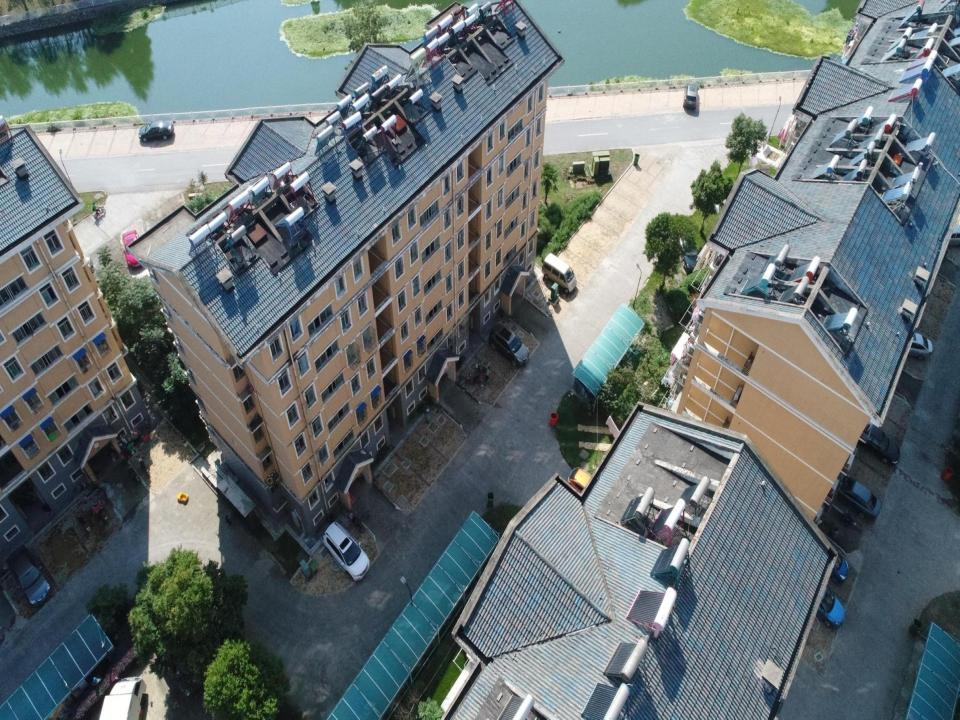car: (322, 520, 370, 581), (8, 545, 51, 606), (799, 582, 846, 630), (858, 420, 901, 466), (839, 474, 881, 520), (488, 322, 530, 367), (814, 540, 849, 580), (893, 330, 933, 360), (678, 225, 700, 272), (122, 230, 145, 269), (138, 120, 174, 143), (684, 82, 700, 112)
van: (99, 674, 147, 719), (542, 252, 576, 294)
